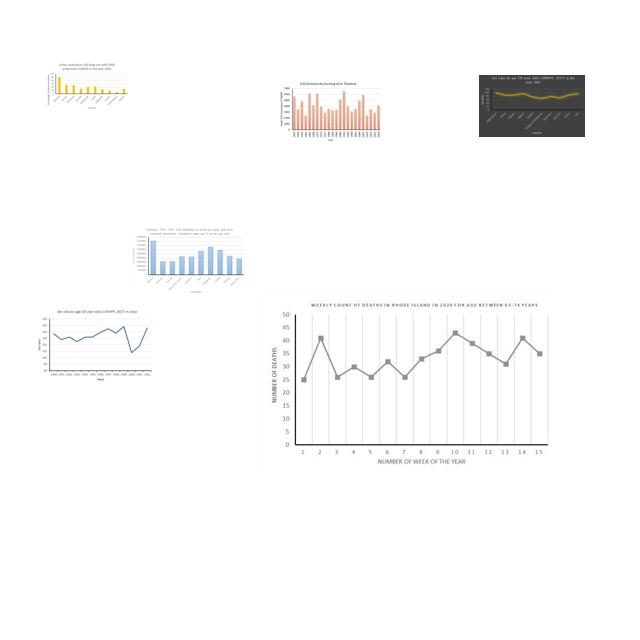Graph: (263, 295, 555, 473), (35, 308, 154, 382), (132, 227, 246, 294), (479, 75, 585, 137), (279, 80, 382, 143), (45, 62, 129, 111)
